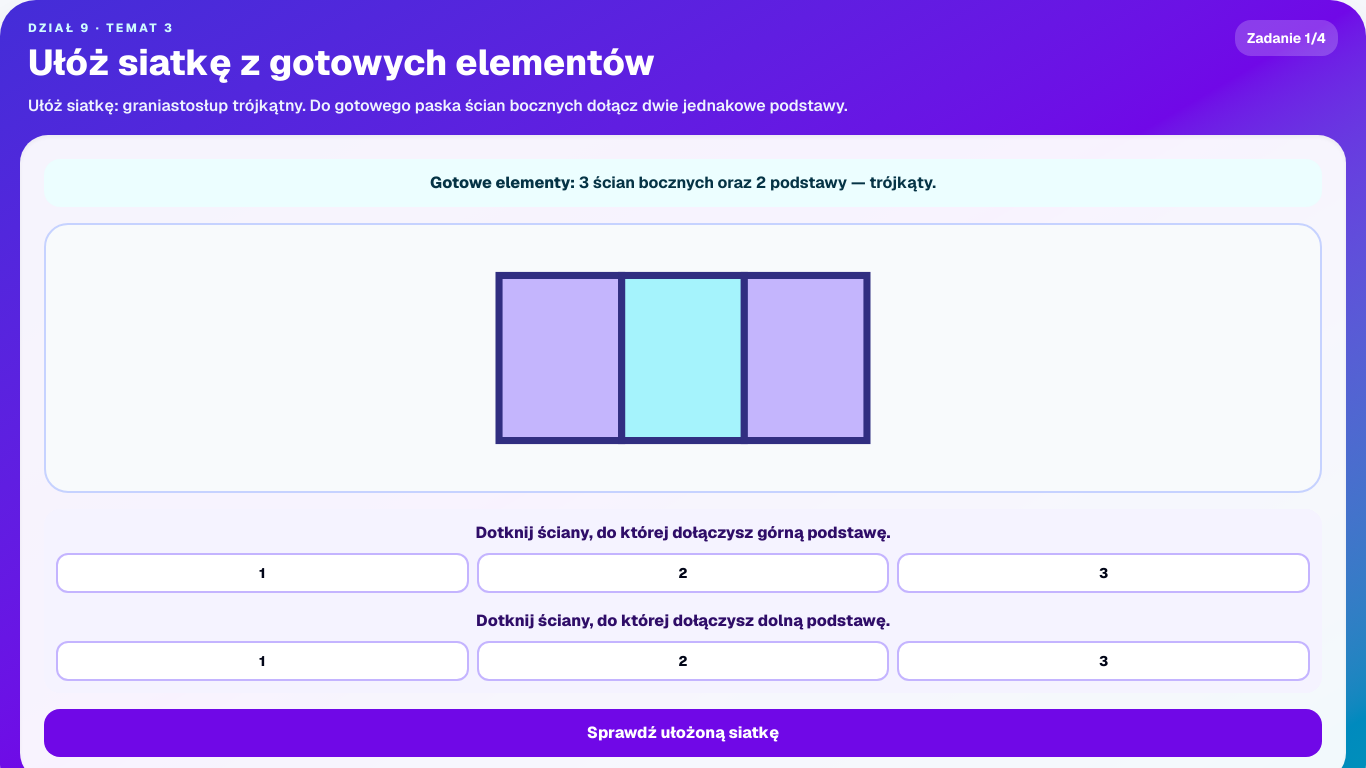
Test case: PrismNetsLessonLab › pozwala ułożyć siatkę z gotowych elementów za pomocą dotykowych przycisków
Expected: the text "Zadanie 1/4" is shown, [1235,20,1338,56]
Expected: the text "3 ścian bocznych oraz 2 podstawy" is shown, [44,159,1322,207]
Click the button "Sprawdź ułożoną siatkę": point(683, 733) [44,709,1322,757]
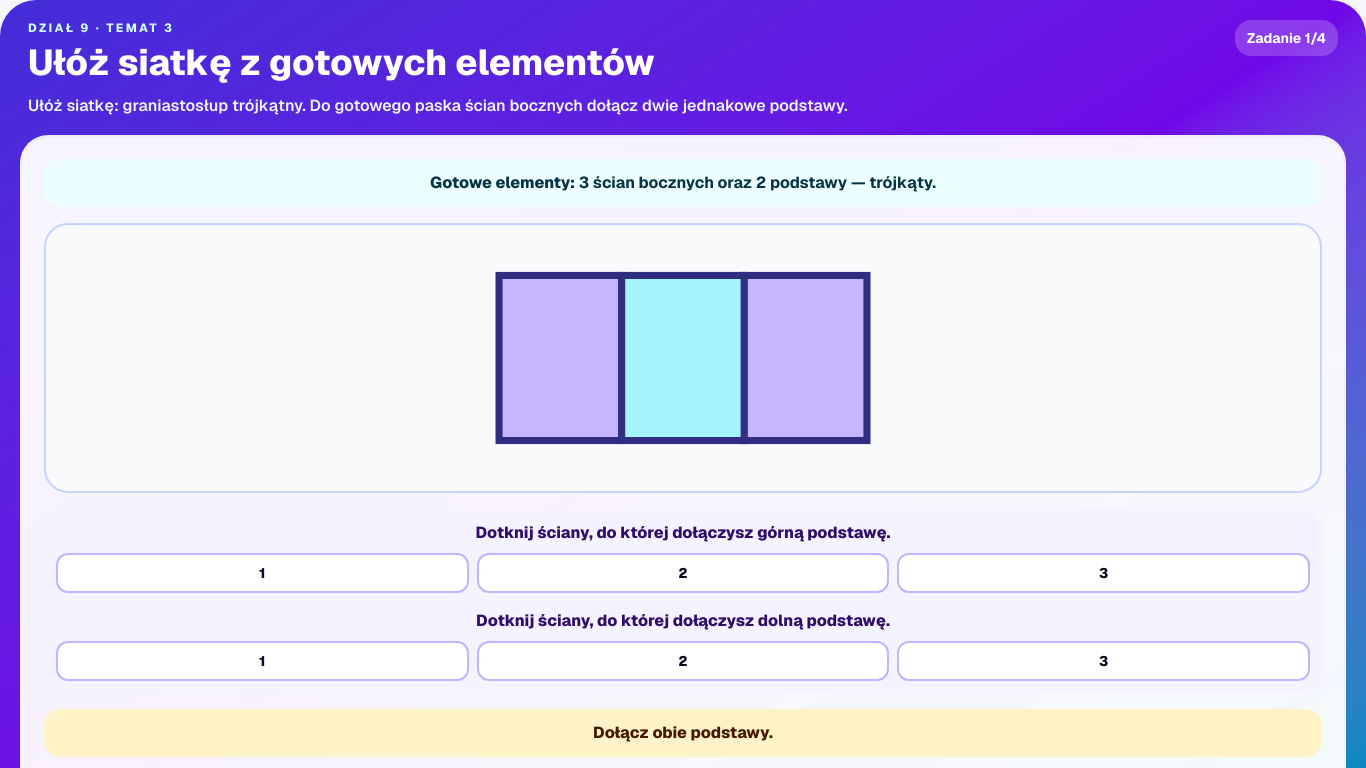
Expected: the text "Dołącz obie podstawy." is shown, [44,709,1322,757]
Click the 1st button "1": point(262, 573) [56,553,469,593]
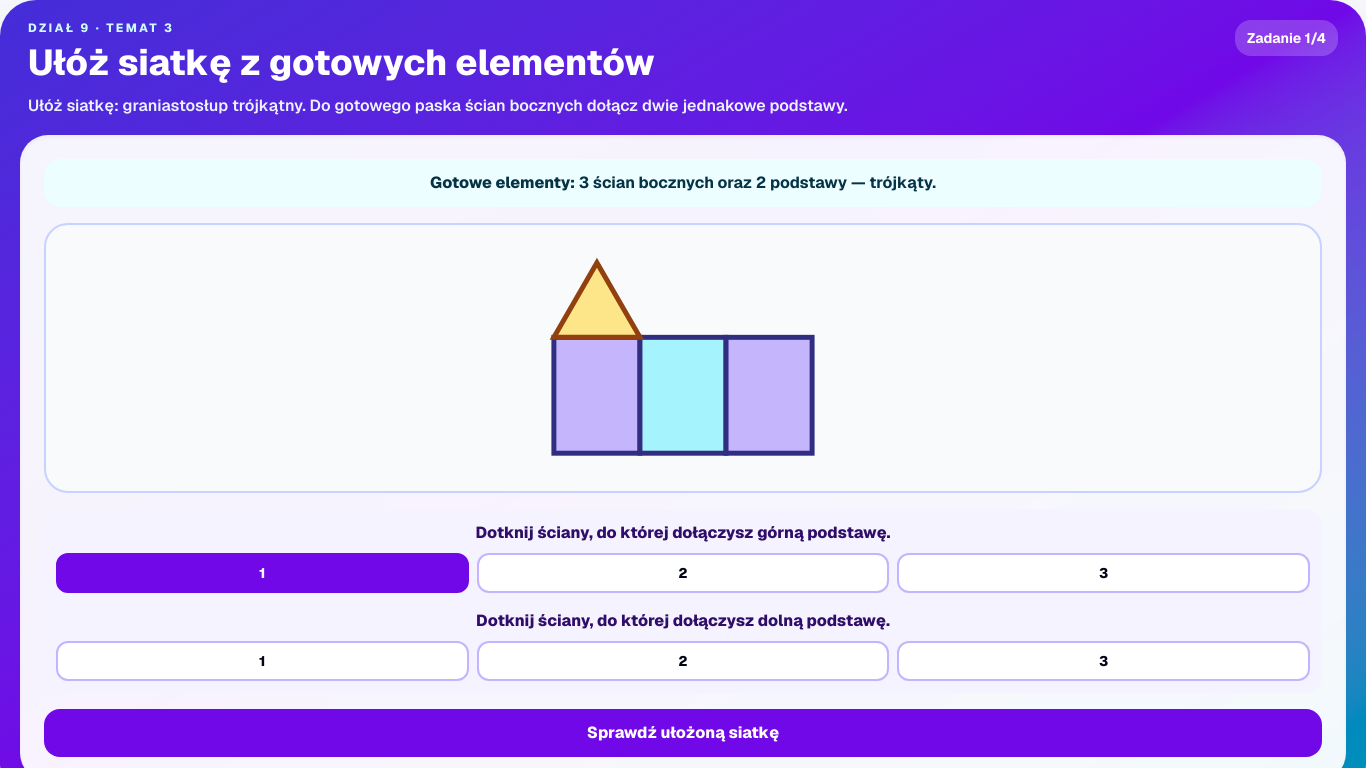
Click the 2nd button "1": point(262, 661) [56,641,469,681]
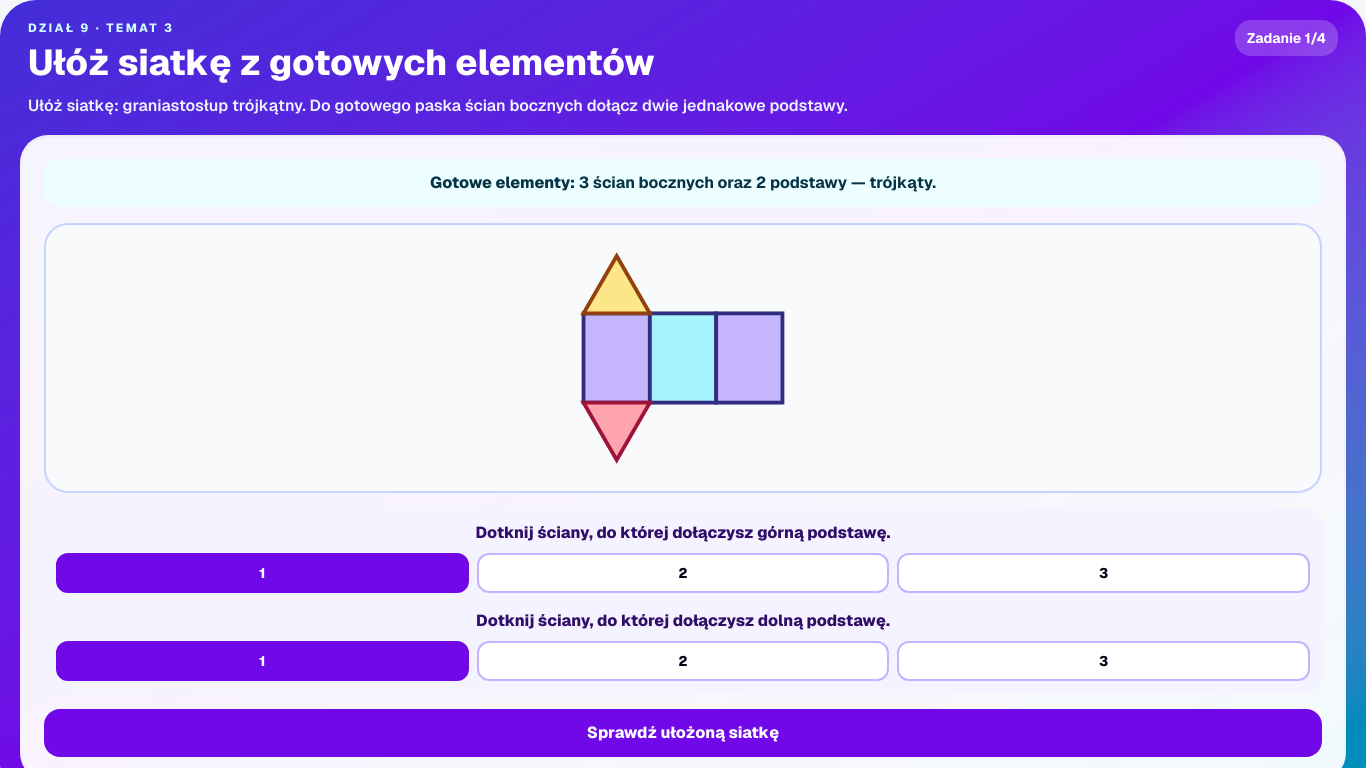
Click the button "Sprawdź ułożoną siatkę": point(683, 733) [44,709,1322,757]
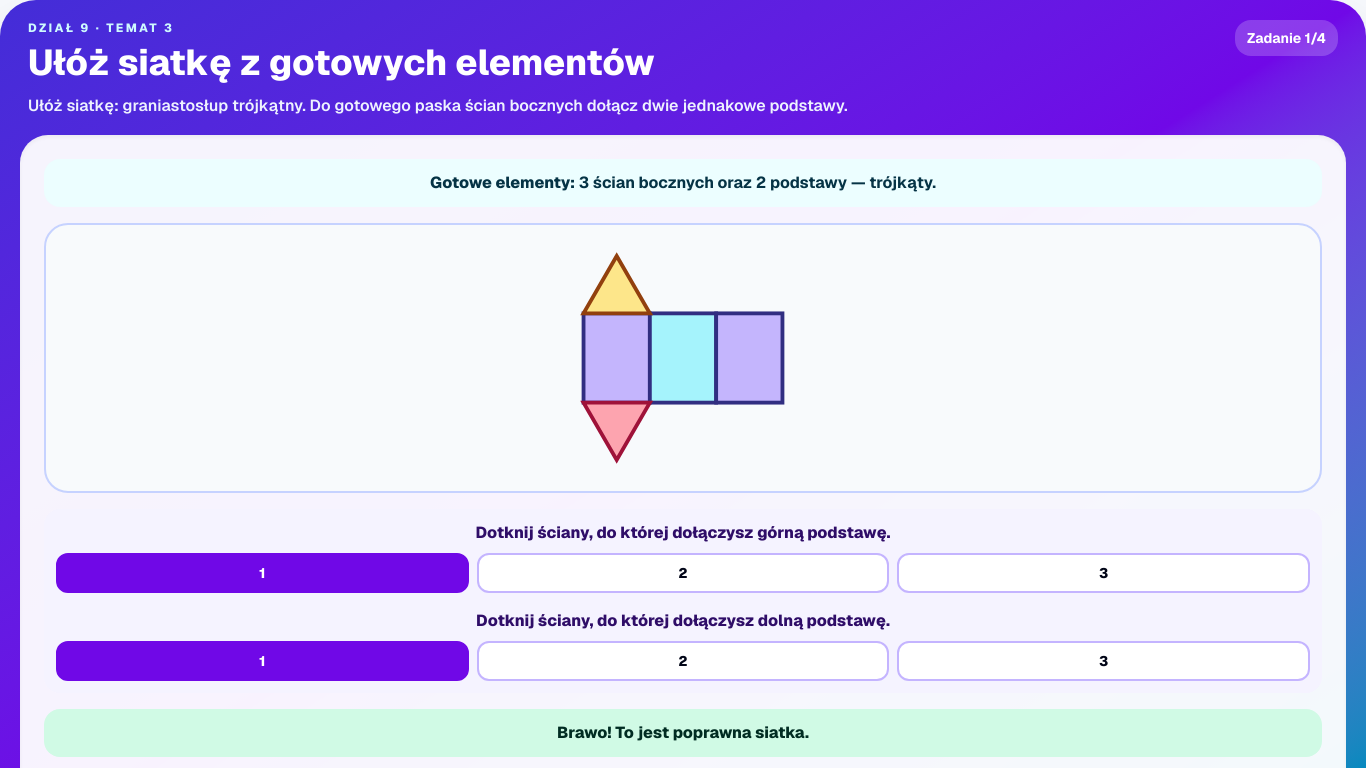
Expected: the text "Brawo! To jest poprawna siatka." is shown, [44,709,1322,757]
